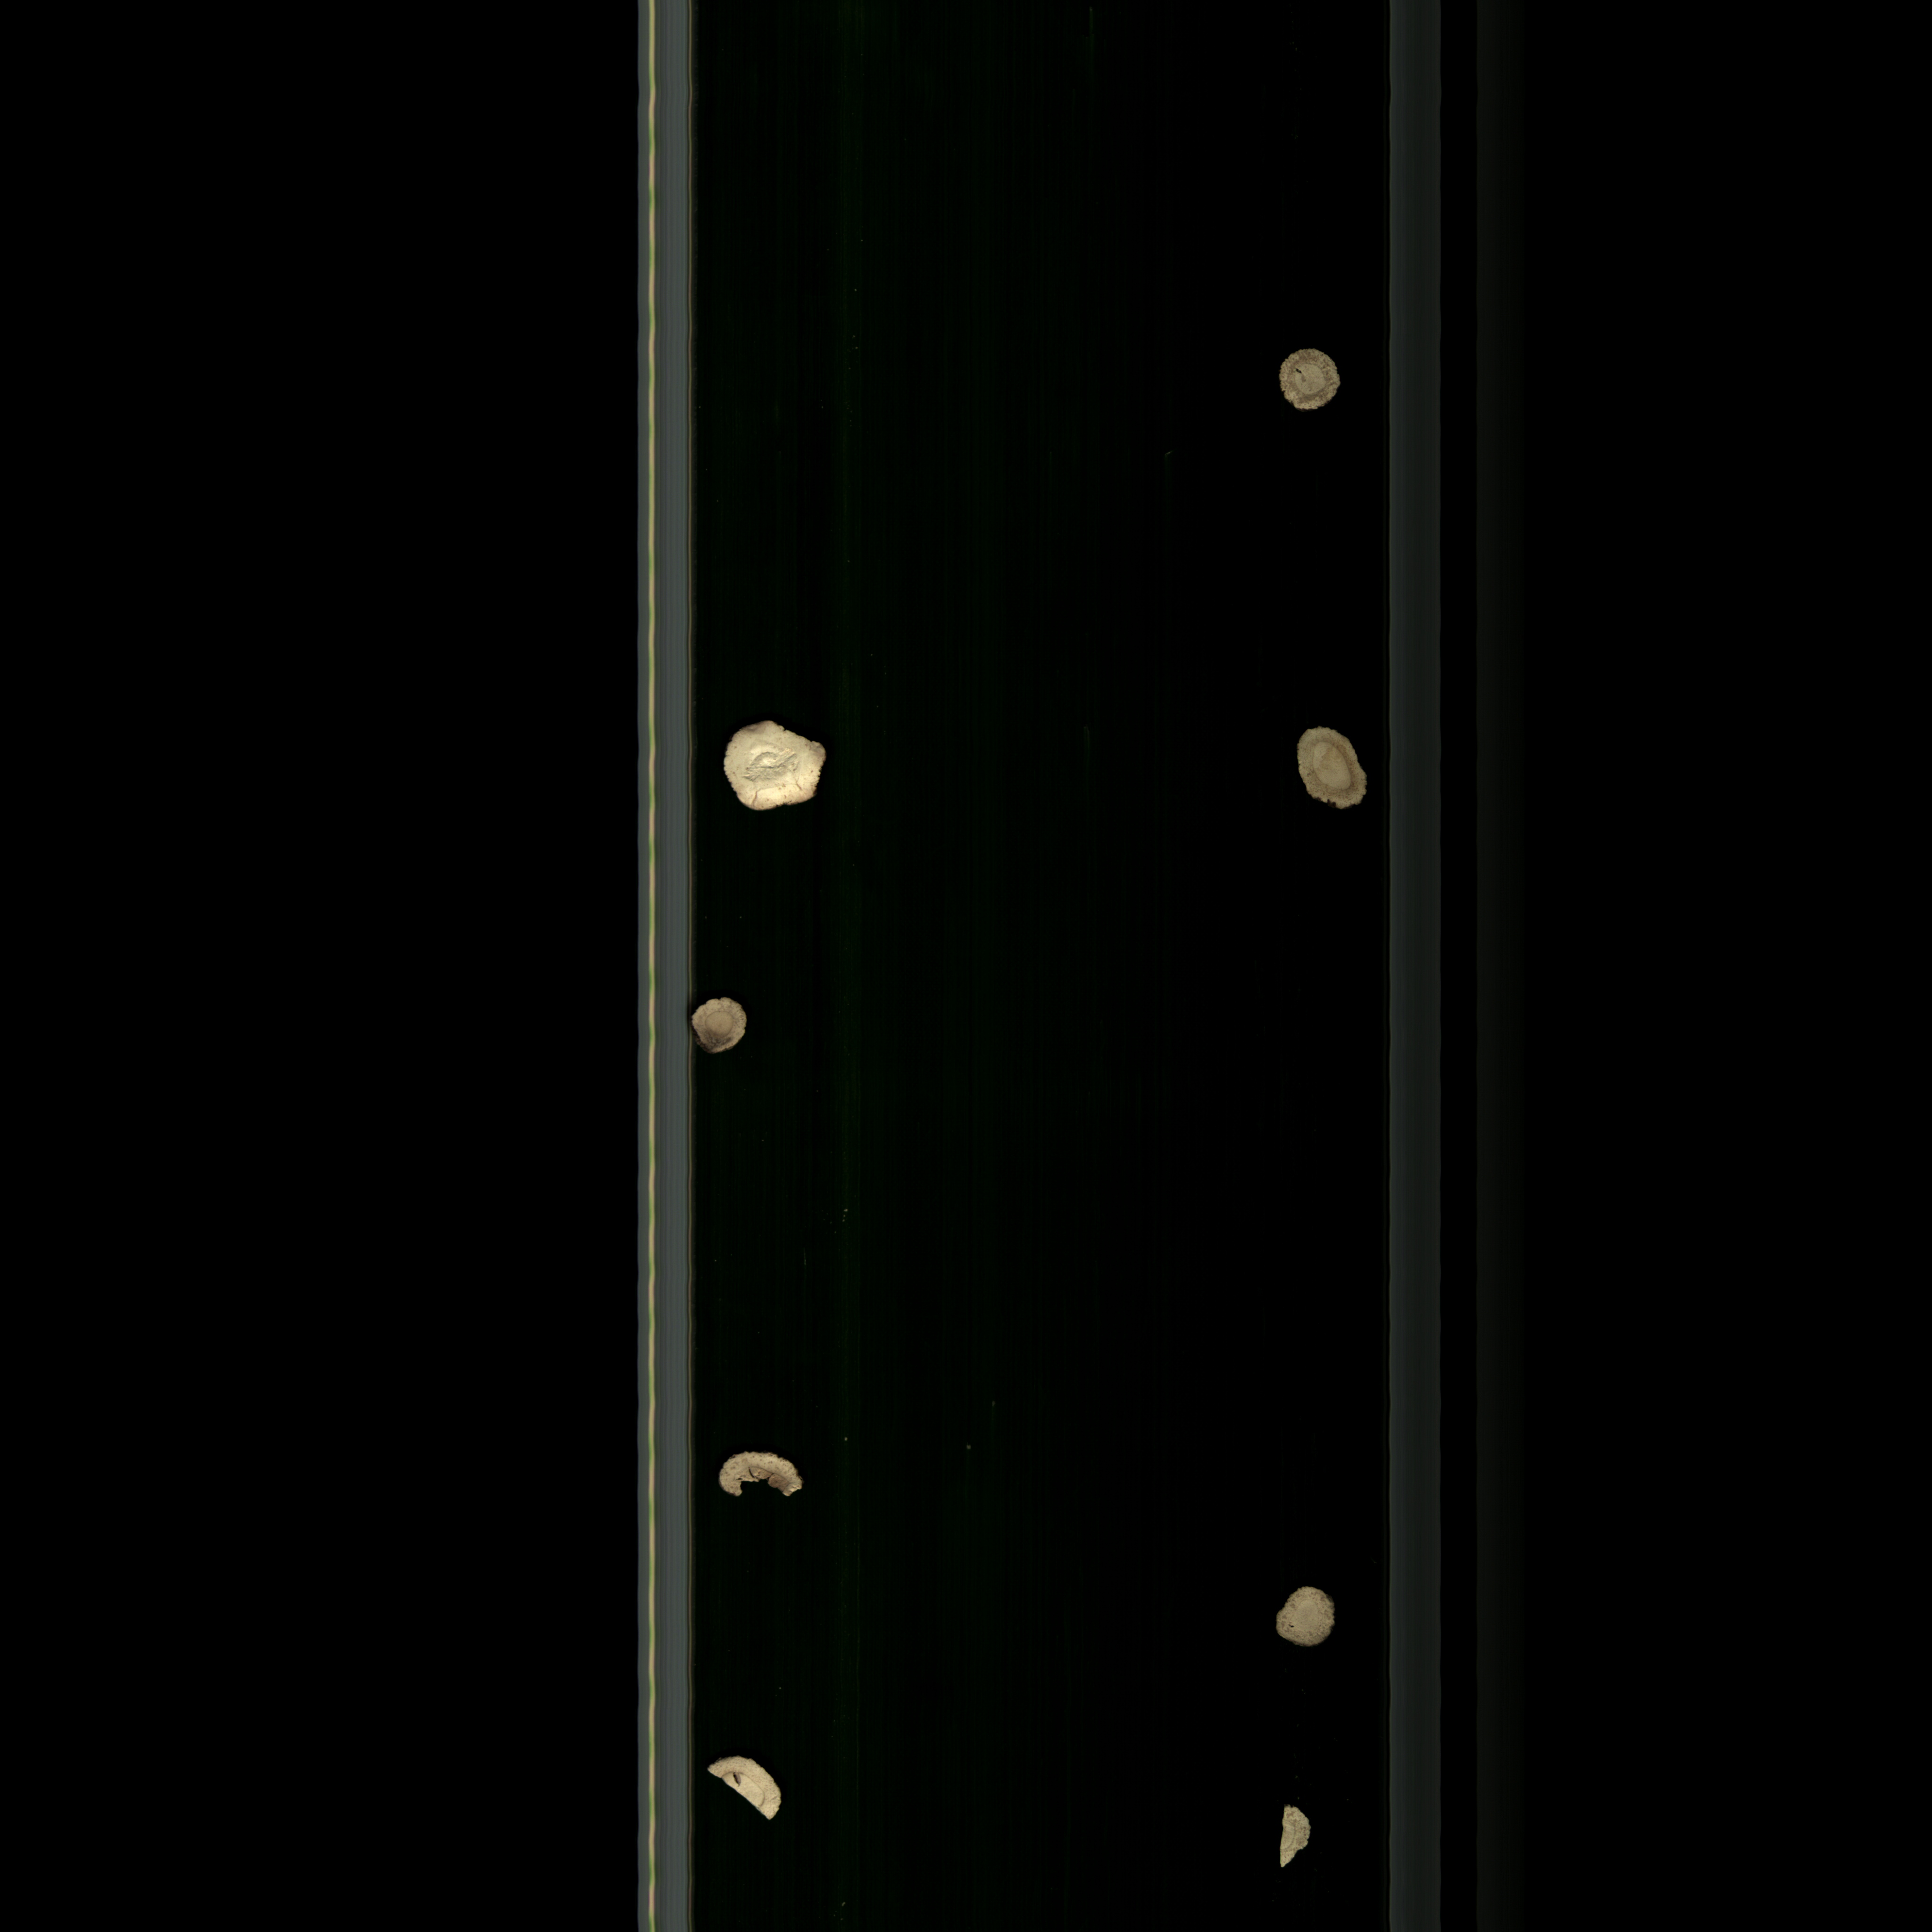debris: (715, 706, 842, 823), (702, 1744, 803, 1836), (709, 1445, 814, 1518), (1277, 1799, 1322, 1881)
moldy: (1290, 717, 1389, 828), (1267, 1575, 1361, 1663), (1274, 343, 1355, 418), (688, 991, 755, 1070)
